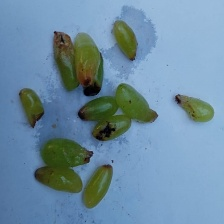grapes: (22, 23, 176, 164)
